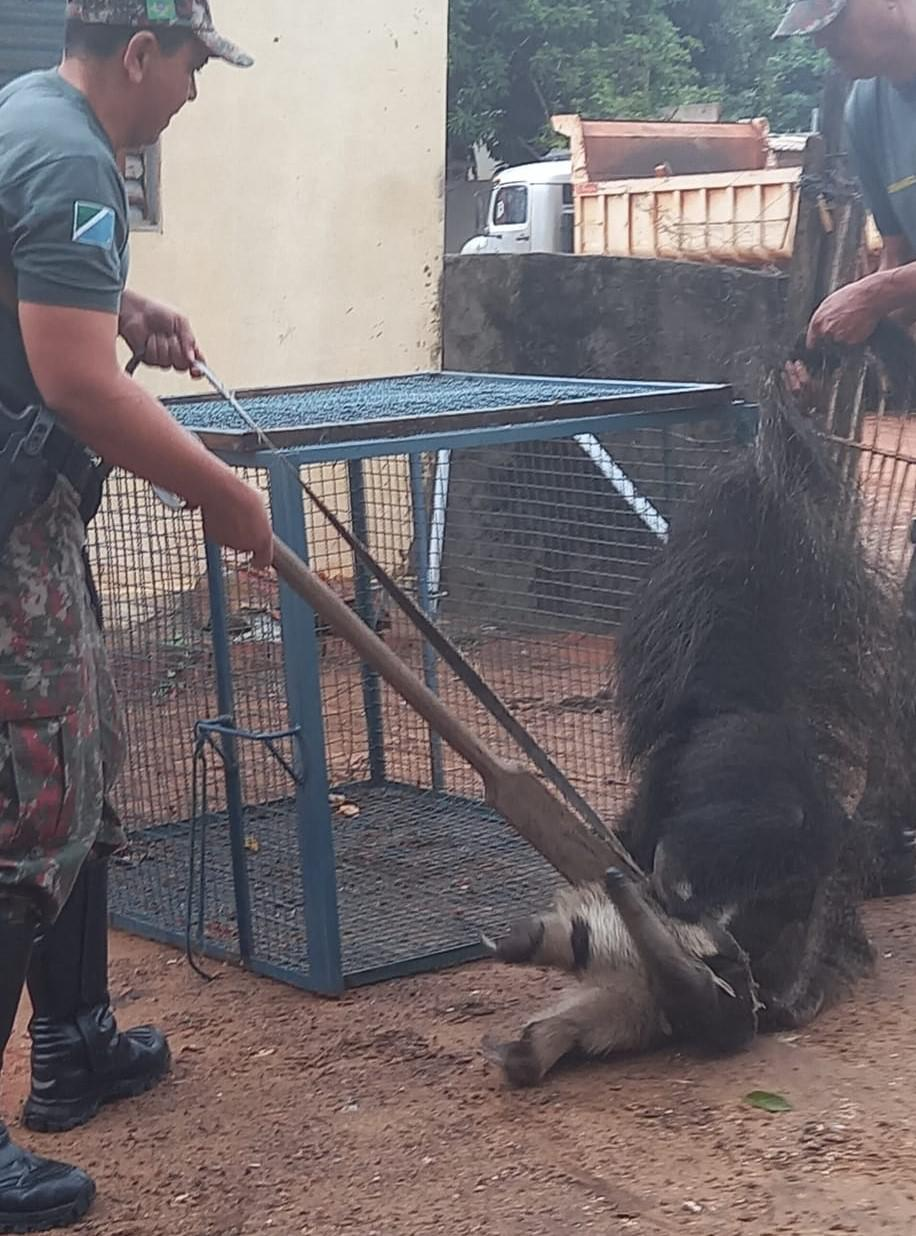TamanduaBandeira: (489, 382, 908, 1101)
